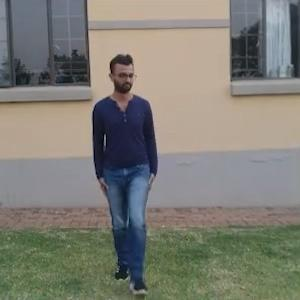follow: (85, 39, 161, 285)
